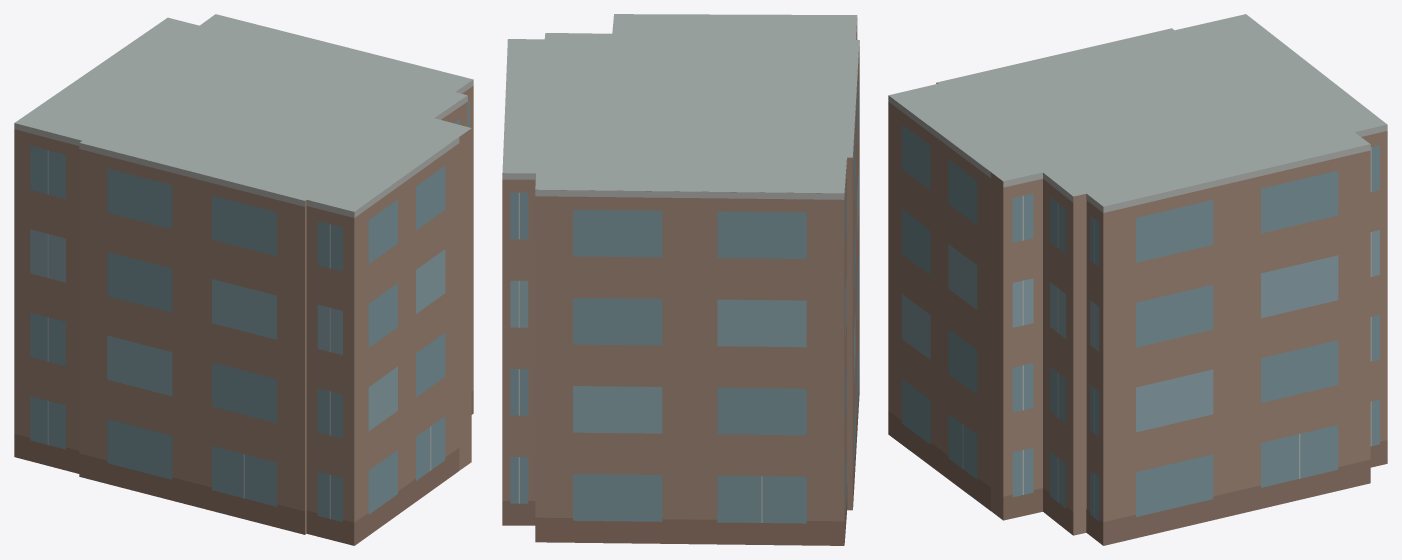
File: survey-upis-32736236.glb
The picture shows the model from 3 angles, left to right: view 1: azimuth 30°, elevation 25°; view 2: azimuth 150°, elevation 25°; view 3: azimuth 270°, elevation 25°; orthographic projection. The views are drawn at different scales.
Parts seen in each view (by area): view 1: survey-upis-32736236.tmp; view 2: survey-upis-32736236.tmp; view 3: survey-upis-32736236.tmp.
Part boxes in pixels (box(x1,y1,x2,y2)): survey-upis-32736236.tmp: box(14, 14, 473, 545); survey-upis-32736236.tmp: box(502, 14, 859, 545); survey-upis-32736236.tmp: box(888, 14, 1387, 545).
Size of the model in its own units: 16.23 by 13.3 by 17.76.
